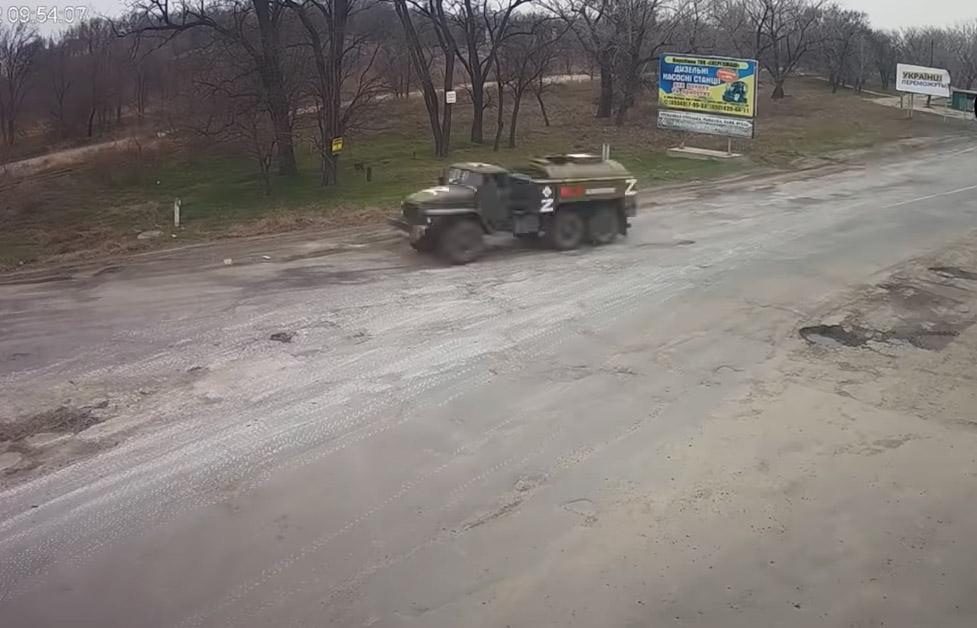truck: (390, 137, 637, 265)
